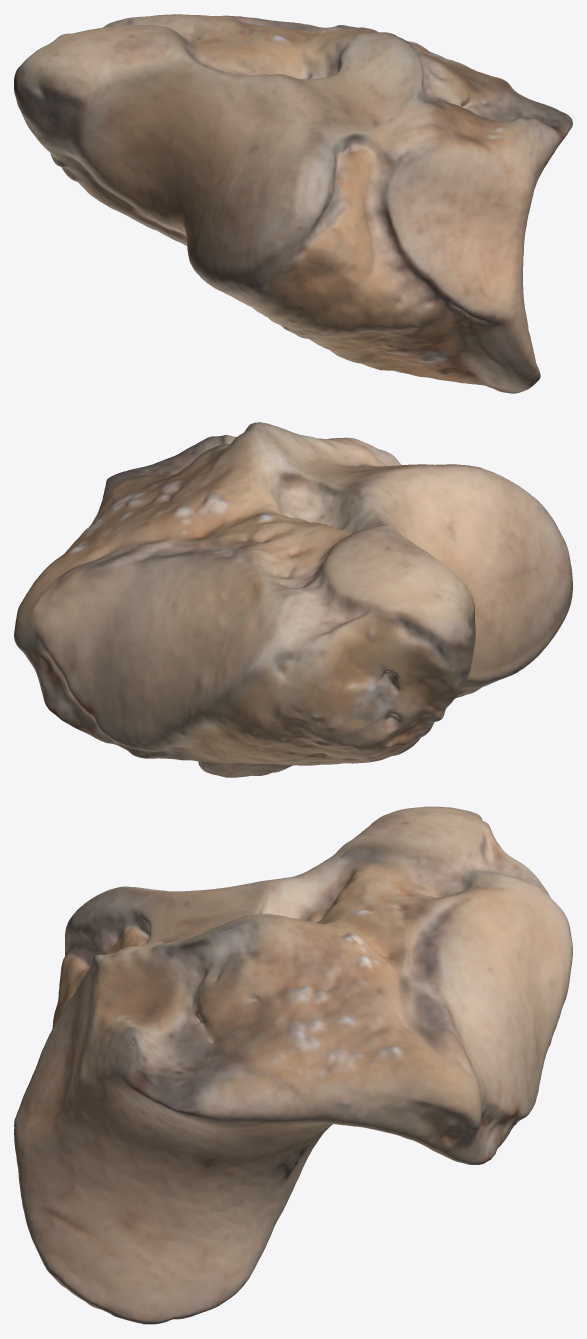
3 views of the same model, one above another, from view 1: azimuth 30°, elevation 25°; view 2: azimuth 150°, elevation 25°; view 3: azimuth 270°, elevation 25° (orthographic). The views are drawn at different scales.
Parts seen in each view (by area): view 1: Node; view 2: Node; view 3: Node.
Boxes of the visible parts, box(x1,y1,x2,y2) form: Node: box(14, 14, 572, 393); Node: box(14, 422, 572, 777); Node: box(14, 806, 572, 1324).
Bounding box in the file's own units: 39.53 × 28.82 × 39.72.
1 material, 1 textured.
